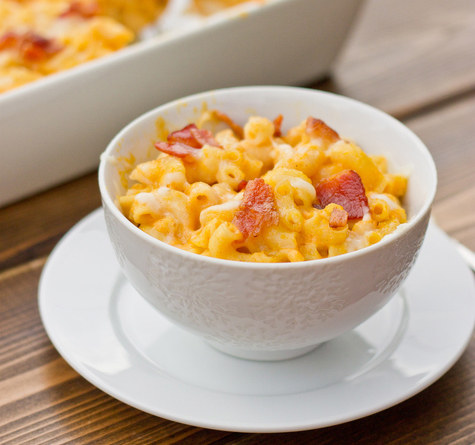macncheese: (107, 107, 411, 264)
